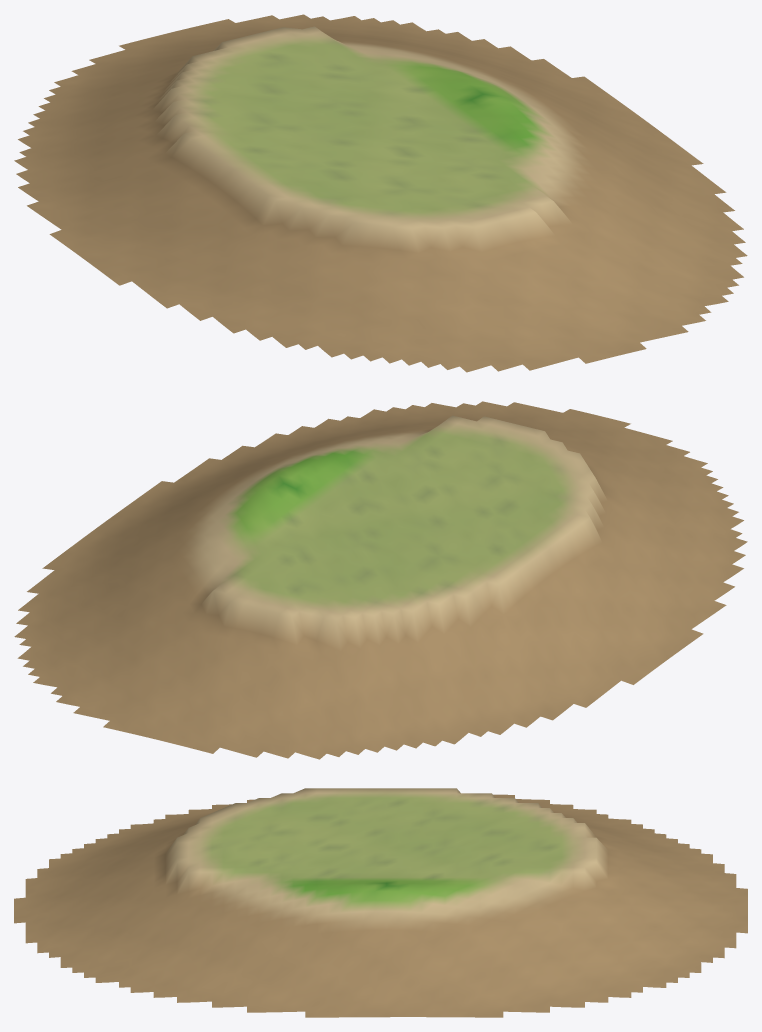
The model's file is island_ground.glb.
3 renders of one model, top to bottom at view 1: azimuth 30°, elevation 25°; view 2: azimuth 150°, elevation 25°; view 3: azimuth 270°, elevation 25°, orthographic. The views are drawn at different scales.
Parts seen in each view (by area): view 1: Island_Ground_Ground; view 2: Island_Ground_Ground; view 3: Island_Ground_Ground.
Boxes of the visible parts, <box> form: Island_Ground_Ground: <box>14,14,747,372</box>; Island_Ground_Ground: <box>14,401,747,759</box>; Island_Ground_Ground: <box>14,788,747,1017</box>.
Size of the model in its own units: 34.69 by 4.45 by 47.25.
